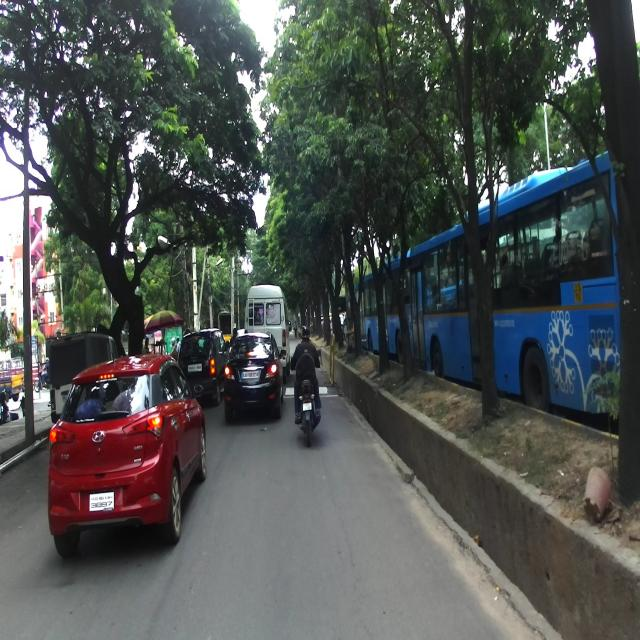bus: (407, 149, 624, 418)
car: (46, 347, 207, 558), (223, 329, 286, 420)
motorcycle: (288, 348, 321, 447)
